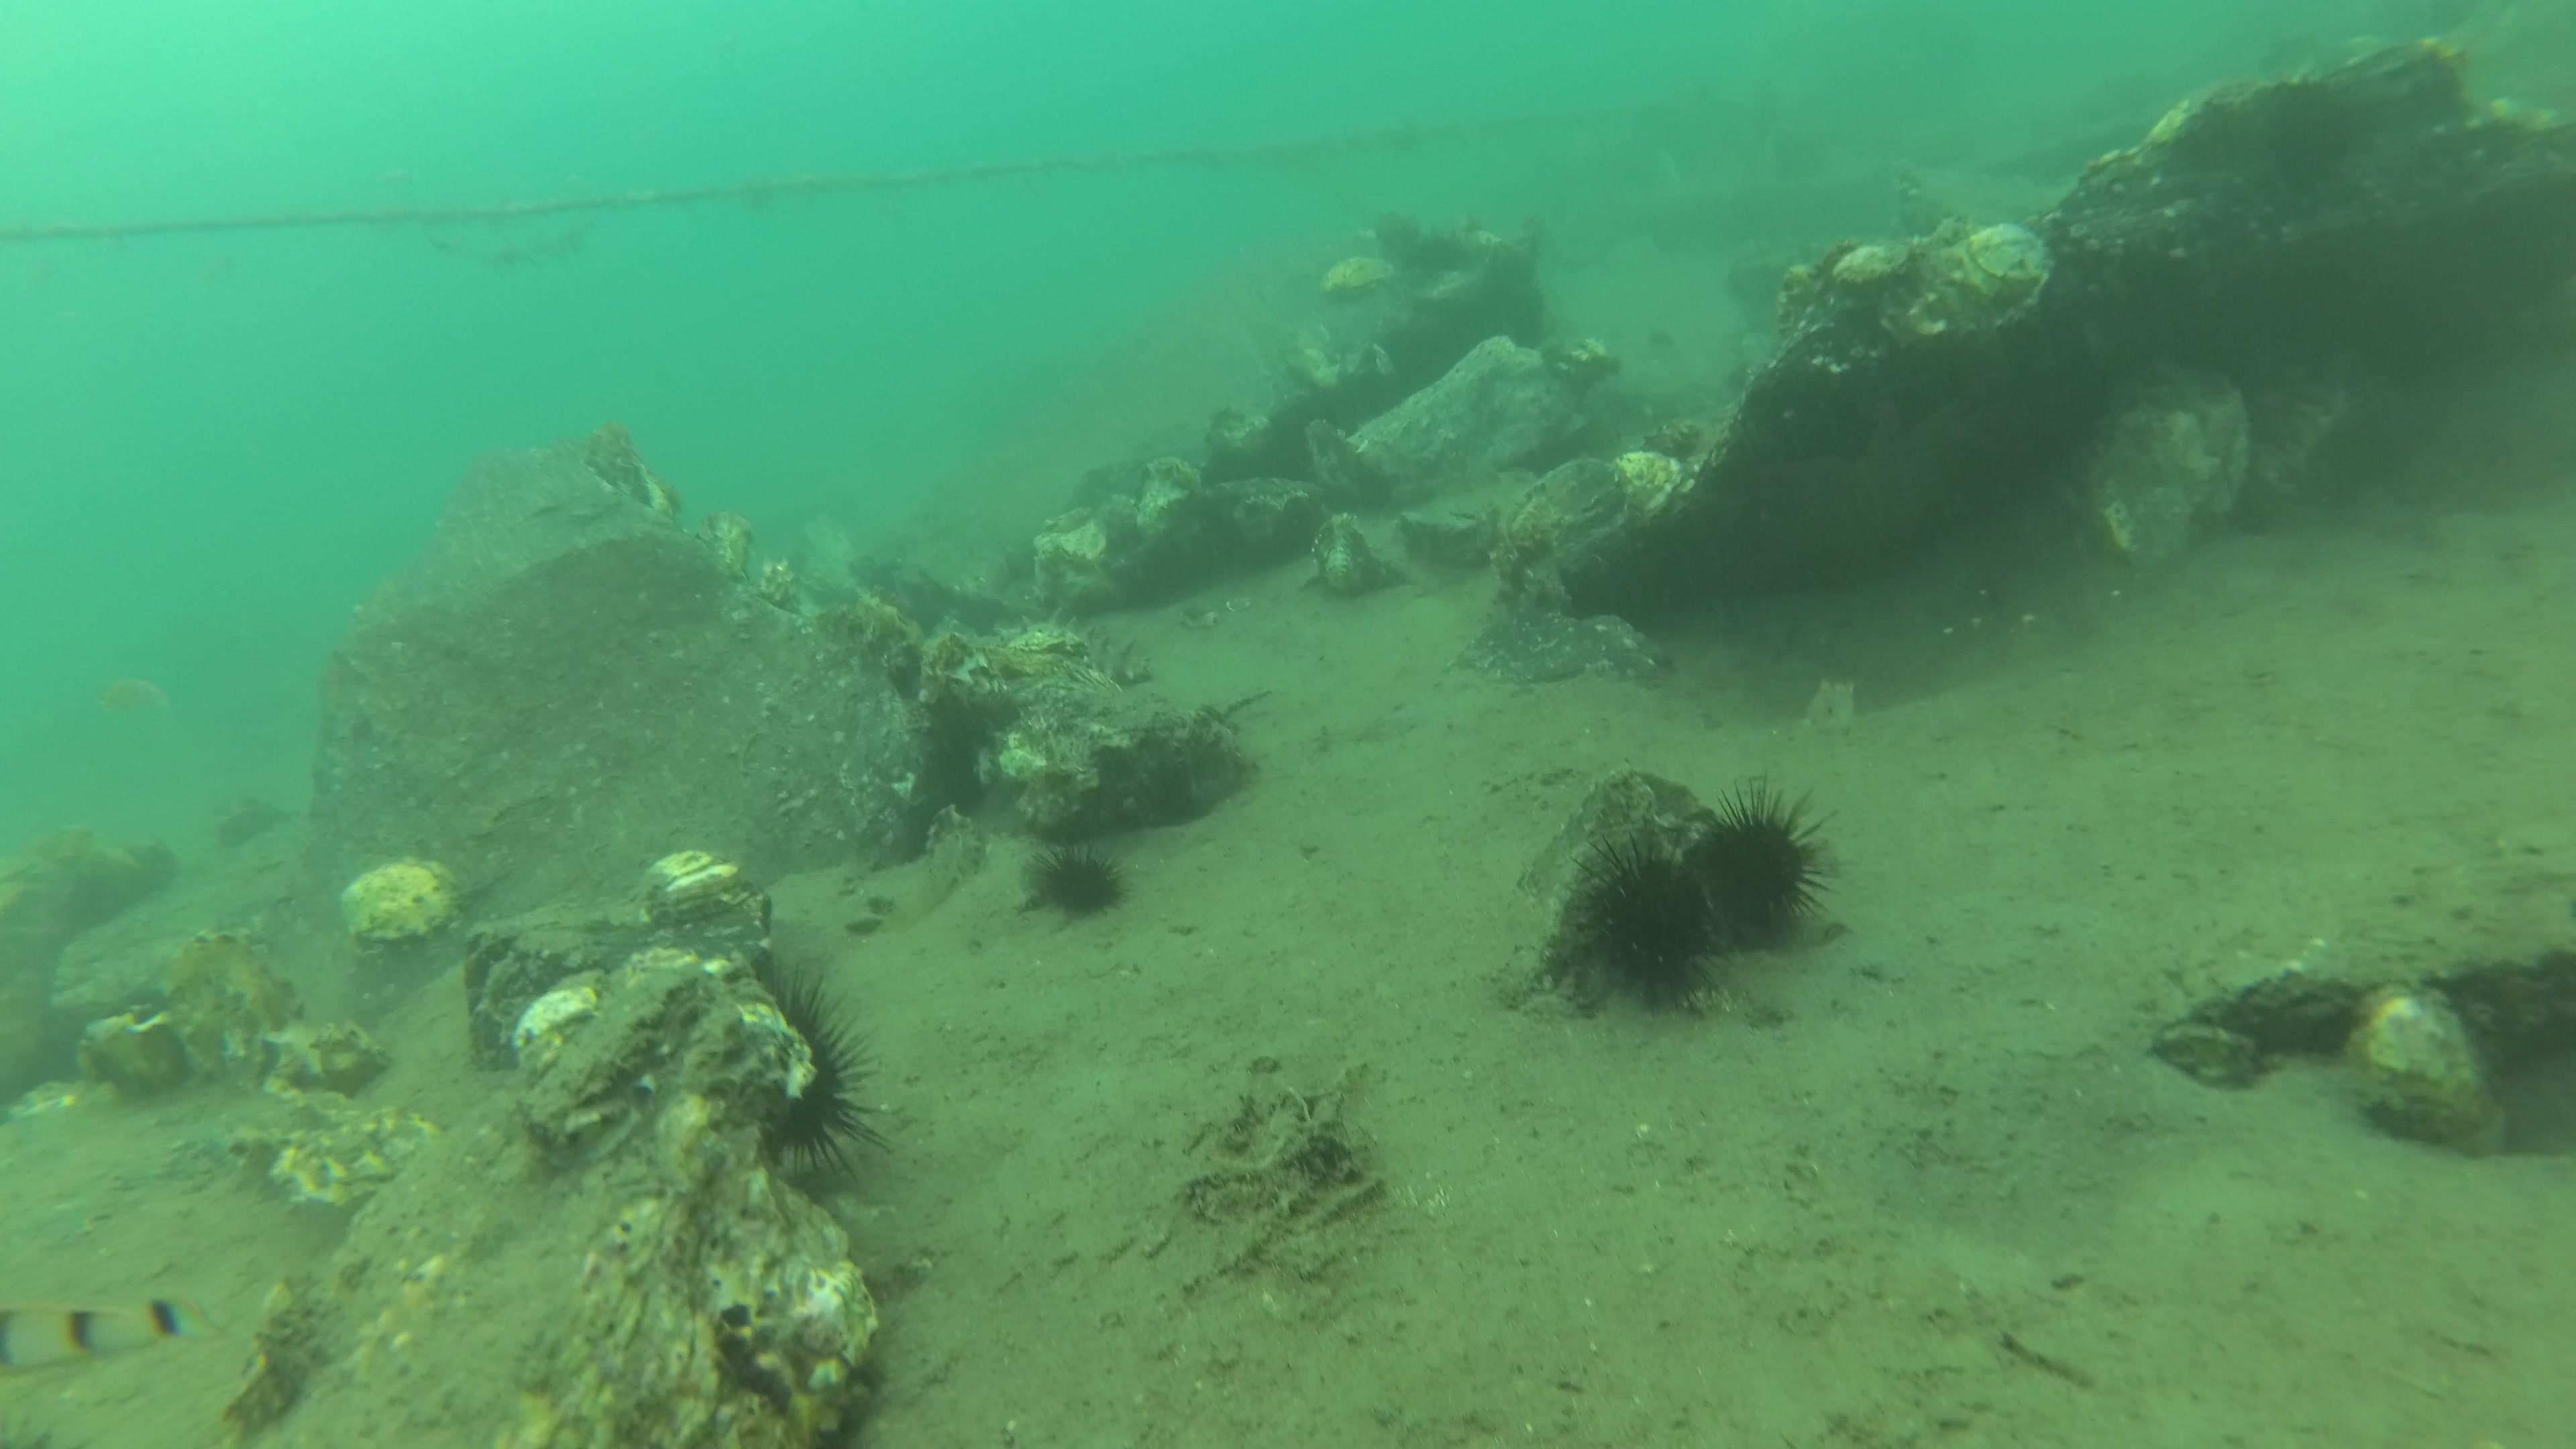echinus: (752, 959, 899, 1184), (1559, 826, 1729, 1017), (1684, 780, 1835, 936), (2263, 74, 2353, 191), (1024, 840, 1131, 916), (1412, 228, 1472, 274)
holothurian: (994, 609, 1154, 685)
starfish: (1752, 391, 1989, 564)
